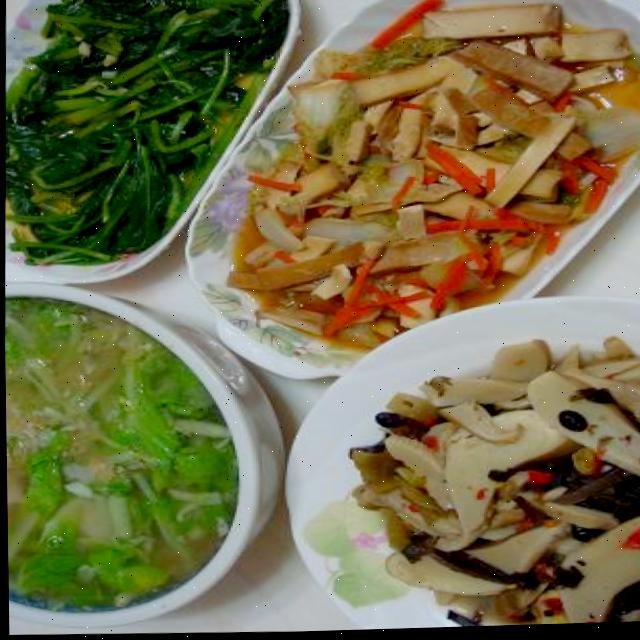蔬菜料理: (1, 0, 299, 280)
